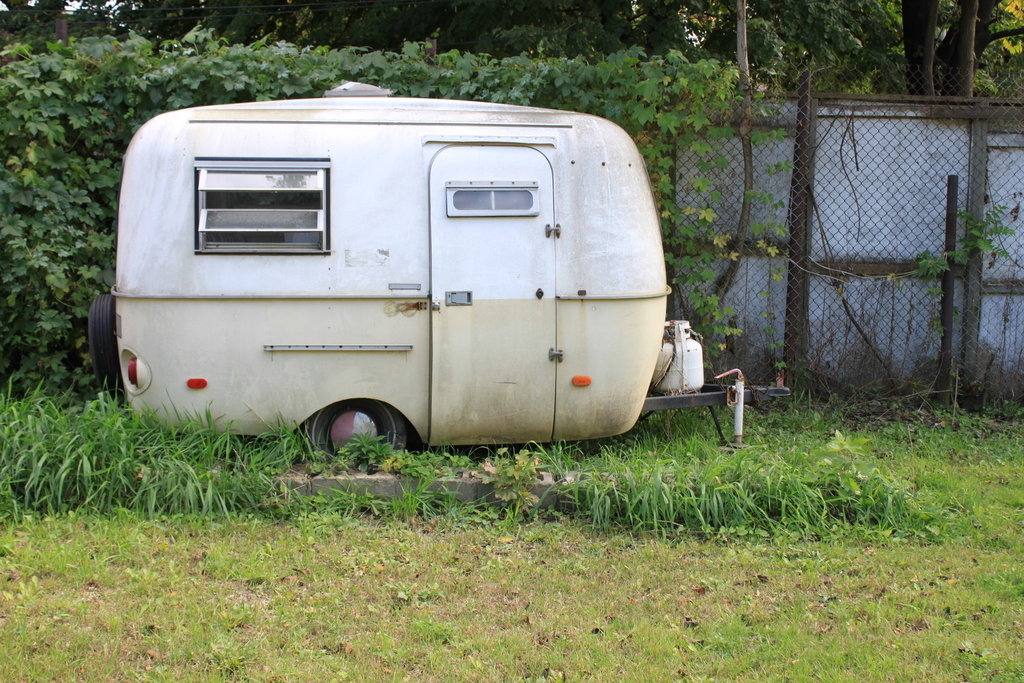Tree: (0, 0, 1023, 98)
